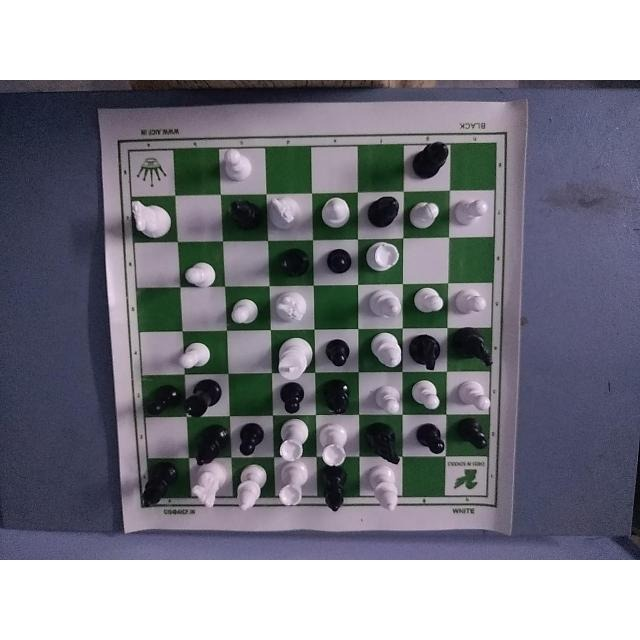black-bishop: (408, 132, 452, 180), (221, 196, 267, 240), (139, 459, 178, 509), (320, 461, 355, 514), (193, 420, 232, 465), (367, 190, 405, 234), (323, 377, 359, 417)
black-knight: (404, 325, 452, 376), (450, 330, 500, 375), (362, 424, 408, 468)
black-pawn: (316, 237, 360, 281), (143, 383, 183, 422), (276, 378, 315, 418), (230, 418, 269, 458), (452, 417, 493, 454), (408, 421, 445, 457), (321, 335, 355, 372)
black-rook: (183, 374, 230, 421), (270, 243, 314, 287)
white-bishop: (365, 459, 405, 514), (234, 461, 271, 518), (358, 286, 407, 329), (312, 193, 357, 236), (365, 331, 405, 374)
white-king: (271, 333, 315, 381)
white-knight: (187, 461, 233, 512), (127, 194, 174, 242), (262, 195, 310, 238), (268, 291, 313, 329)
white-pawn: (448, 189, 495, 233), (402, 192, 447, 233), (215, 147, 257, 189), (449, 286, 493, 326), (409, 376, 449, 418), (178, 248, 217, 289), (407, 286, 449, 324), (178, 339, 222, 373), (452, 379, 493, 415), (365, 384, 405, 417), (226, 295, 262, 329)
white-rook: (361, 240, 407, 286), (277, 461, 313, 512), (278, 417, 316, 464), (317, 418, 348, 468)
